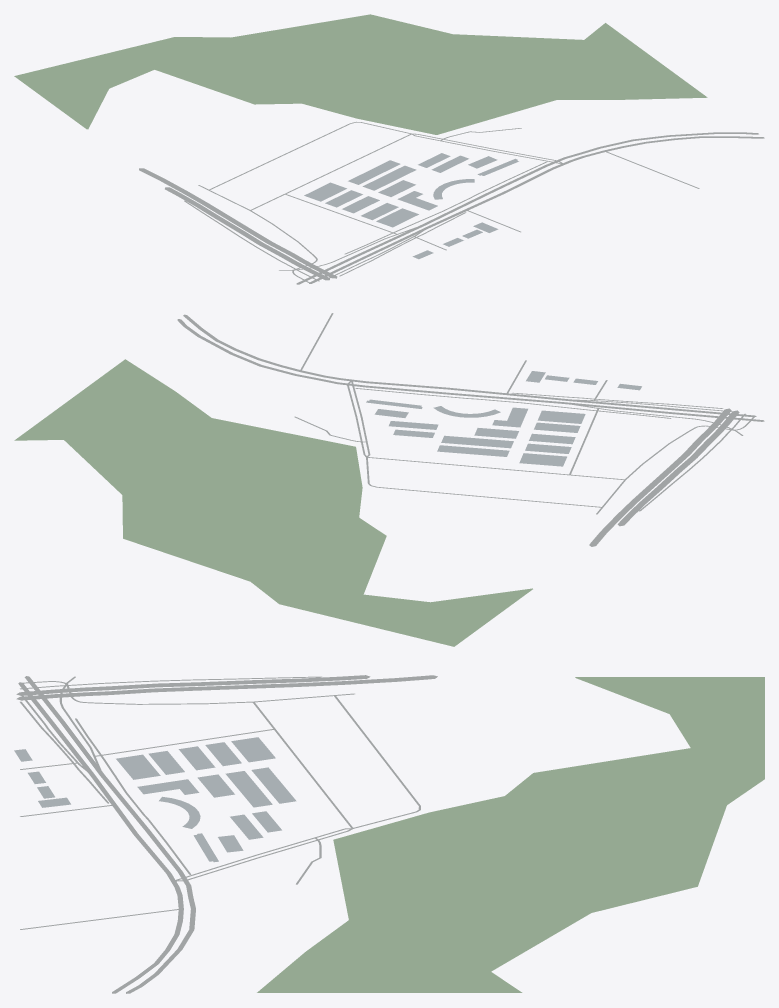
The model's file is -7_19-known-fine.glb.
The picture shows the model from 3 angles, top to bottom: view 1: azimuth 30°, elevation 25°; view 2: azimuth 150°, elevation 25°; view 3: azimuth 270°, elevation 25°; orthographic projection. The views are drawn at different scales.
Bounding box in the file's own units: 1008 × 0.15 × 1004.
